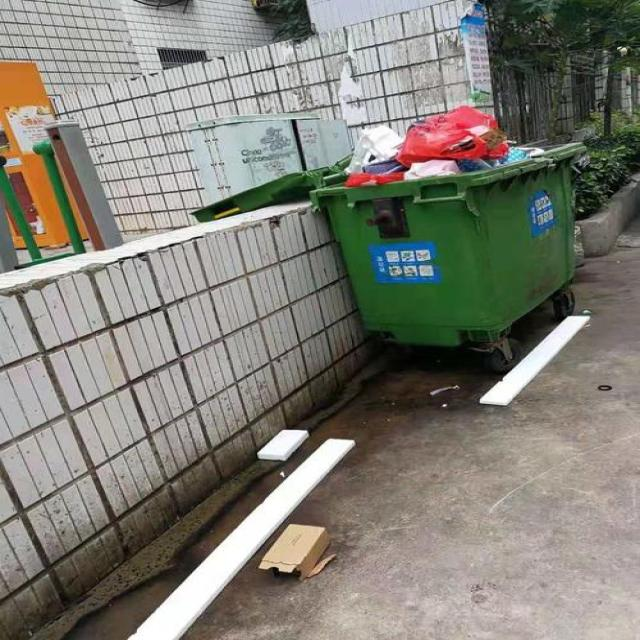overflow: (304, 103, 582, 344)
